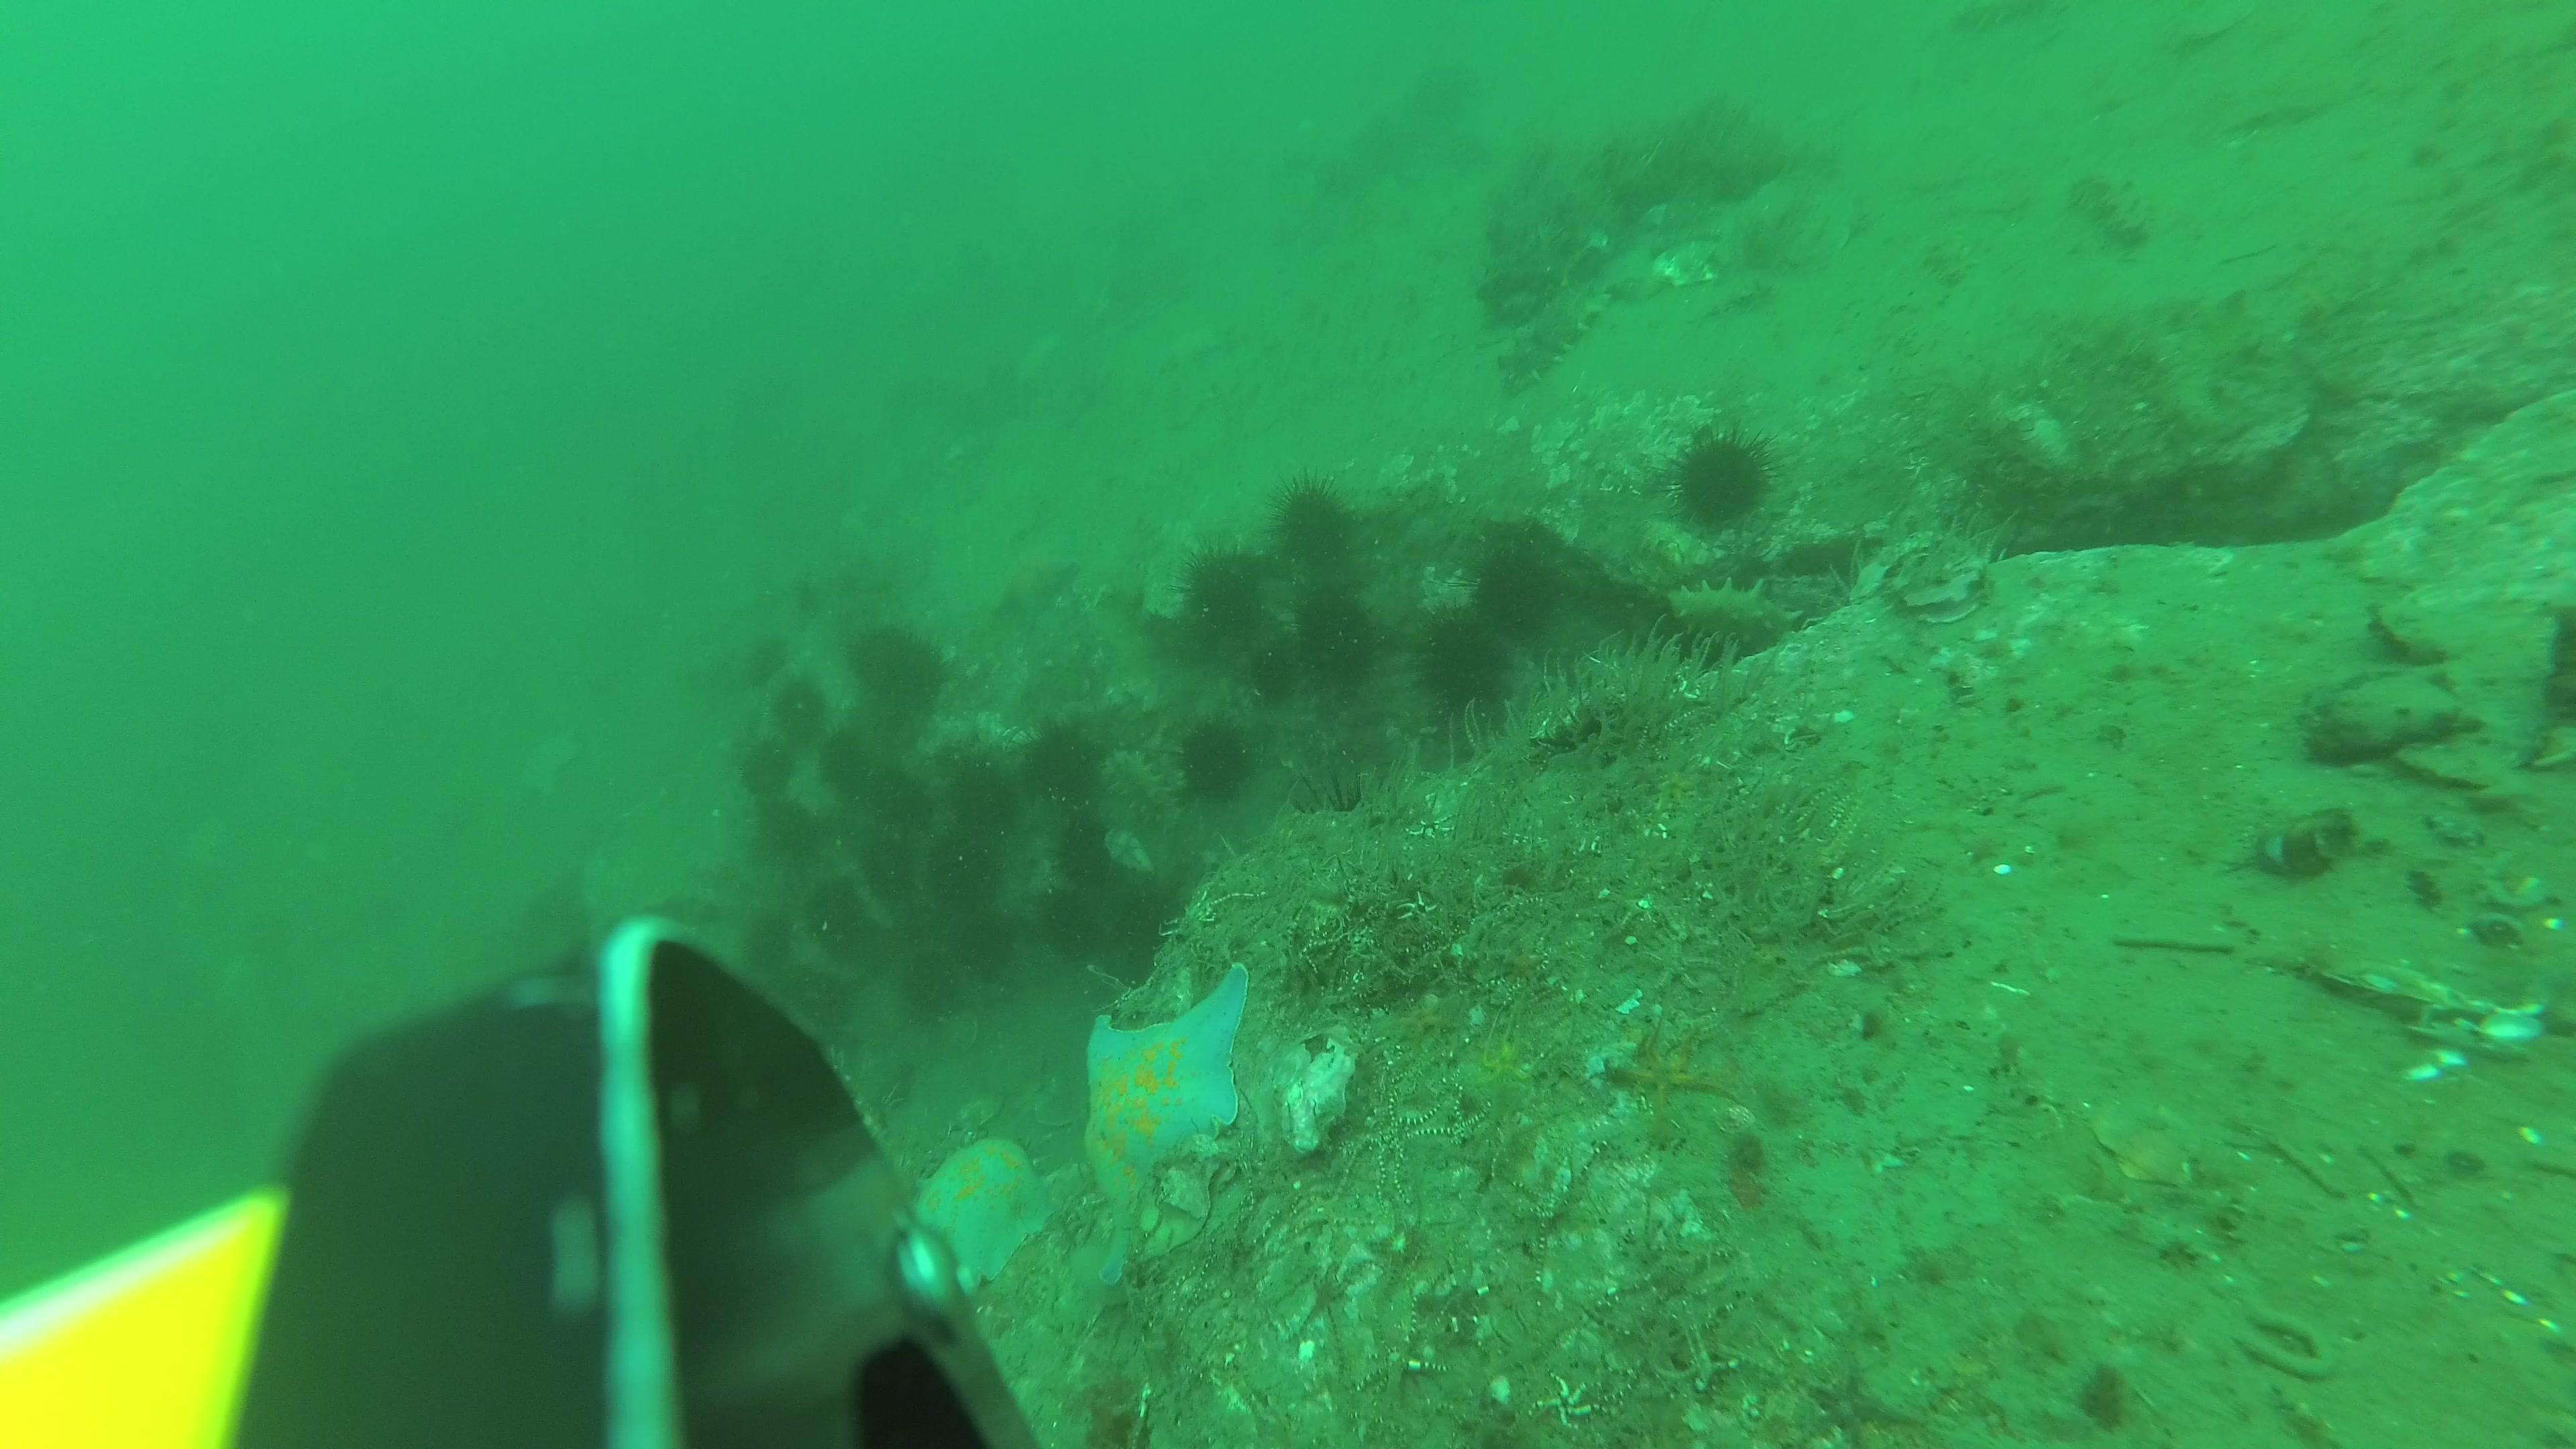echinus: (1668, 428, 1785, 541), (1175, 545, 1281, 651), (1302, 771, 1405, 874), (1419, 614, 1511, 722), (1272, 472, 1361, 582), (1470, 540, 1557, 639), (1302, 586, 1375, 694), (1031, 722, 1104, 816), (805, 874, 874, 959), (918, 842, 994, 918), (1184, 722, 1258, 800), (752, 801, 824, 872), (947, 757, 1019, 828), (1042, 885, 1108, 962), (782, 966, 858, 1030), (888, 639, 948, 718), (955, 906, 1021, 975), (1051, 816, 1111, 888), (856, 830, 916, 901), (734, 908, 793, 980), (1108, 885, 1166, 957), (853, 621, 909, 692), (814, 734, 870, 805), (732, 736, 789, 805), (899, 952, 959, 1016), (863, 777, 927, 837), (771, 678, 828, 743), (741, 635, 791, 694), (1249, 640, 1299, 697)
holothurian: (1499, 280, 1612, 396), (1674, 579, 1805, 669), (2075, 172, 2160, 255), (1115, 747, 1187, 828), (1946, 0, 2058, 35), (1923, 230, 1985, 287)
scallop: (2093, 1097, 2204, 1189), (1654, 237, 1729, 288), (945, 1092, 1001, 1136), (943, 1003, 982, 1056)
starfish: (1083, 955, 1254, 1284), (913, 1136, 1053, 1299), (1628, 1021, 1743, 1136), (989, 534, 1077, 630), (1477, 1024, 1543, 1090), (1399, 1000, 1444, 1039)
